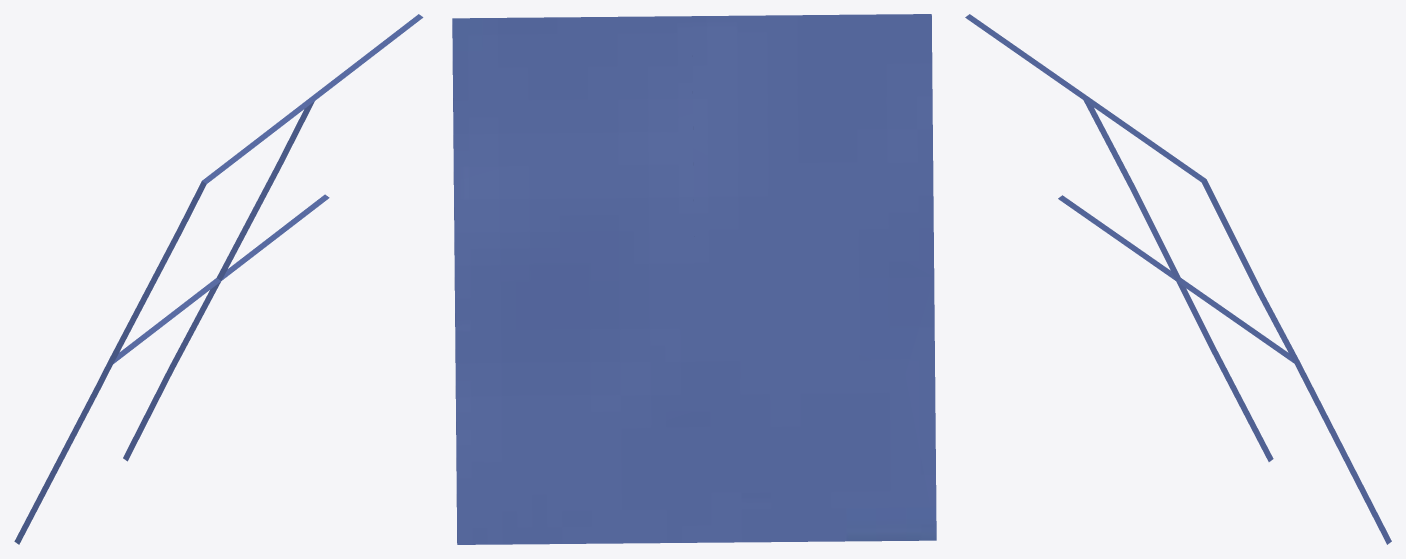
The picture shows the model from 3 angles, left to right: view 1: azimuth 30°, elevation 25°; view 2: azimuth 150°, elevation 25°; view 3: azimuth 270°, elevation 25°; orthographic projection. The views are drawn at different scales.
Size of the model in its own units: 4918 by 4422 by 4151.
1 material, 1 textured.
